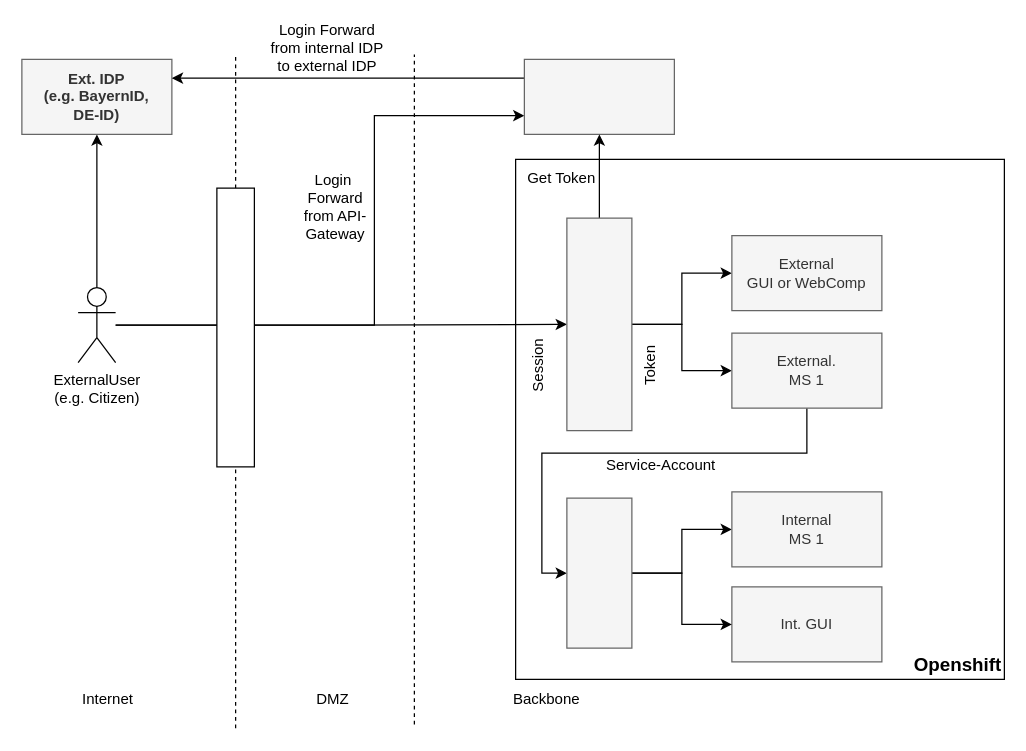
Image size: 1026x751. Some labels were removed from this diagram. Here are the shapes that lost their labels. From the top down, the box of each, then its label:
(523, 58, 674, 134): Internal Identity-Provider RH-SSO/Keycloak
(216, 187, 254, 467): WAF
(566, 217, 632, 431): External API-Gateway
(566, 497, 632, 648): Internal API-Gateway
